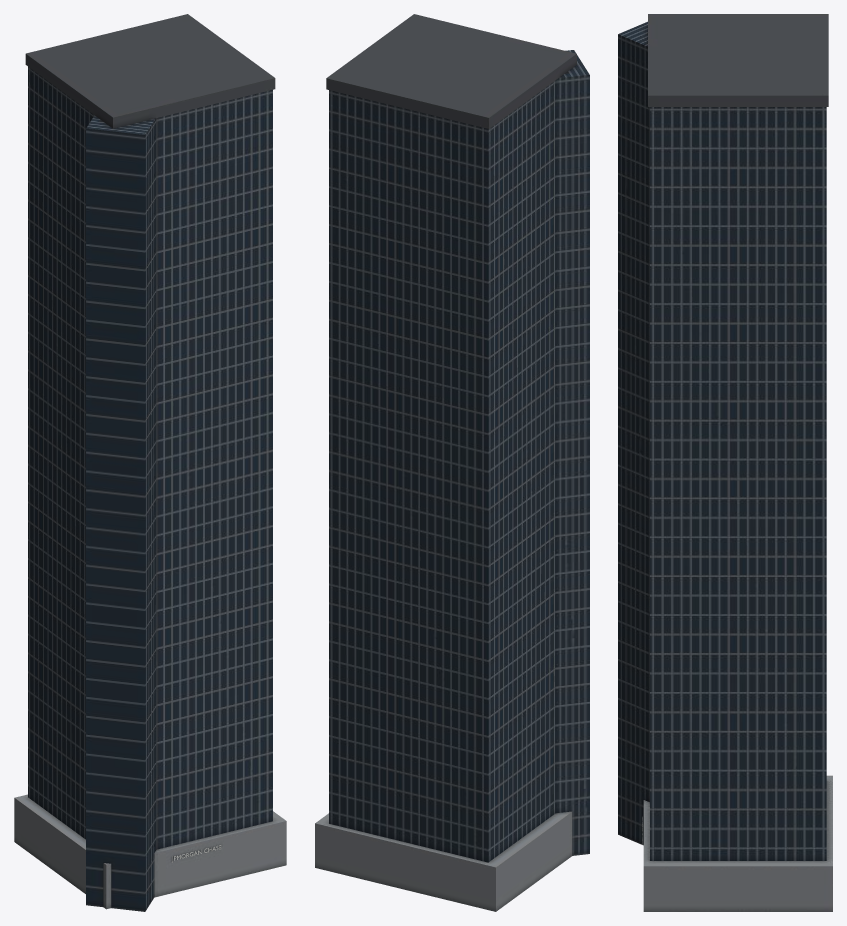
File: jpmorgan_hou.glb
3 renders of one model, left to right at view 1: azimuth 30°, elevation 25°; view 2: azimuth 150°, elevation 25°; view 3: azimuth 270°, elevation 25°, orthographic. The views are drawn at different scales.
Parts seen in each view (by area): view 1: jpmorgan_hou; view 2: jpmorgan_hou; view 3: jpmorgan_hou.
Boxes of the visible parts, box(x1,y1,x2,y2) form: jpmorgan_hou: box(14, 14, 286, 911); jpmorgan_hou: box(315, 14, 589, 911); jpmorgan_hou: box(618, 14, 832, 911).
Size of the model in its own units: 36.07 by 142 by 34.07.
1 material, 1 textured.
